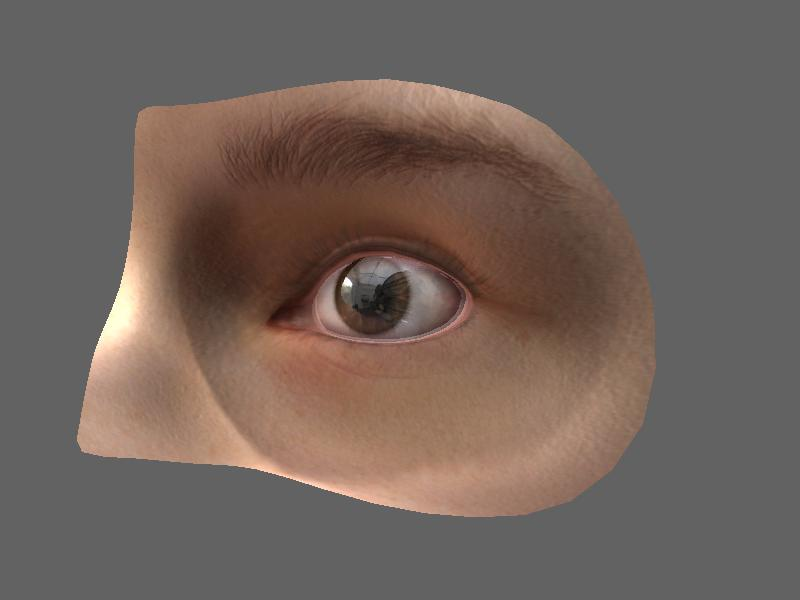iris: (333, 259, 414, 338)
